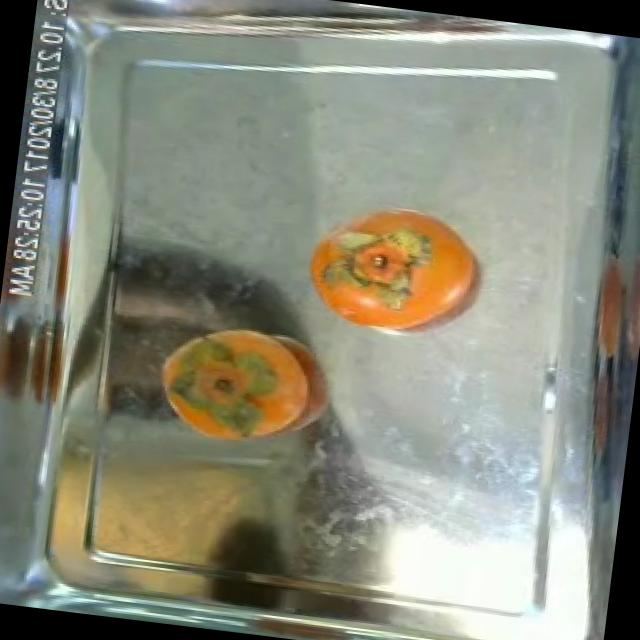Fruit: (76, 232, 266, 418), (142, 308, 342, 464)
